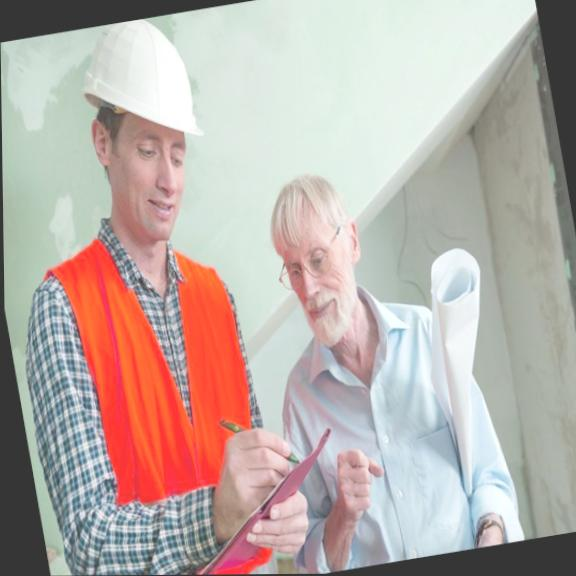no_safety_vest: (286, 314, 498, 573)
safety_vest: (31, 183, 285, 576)
